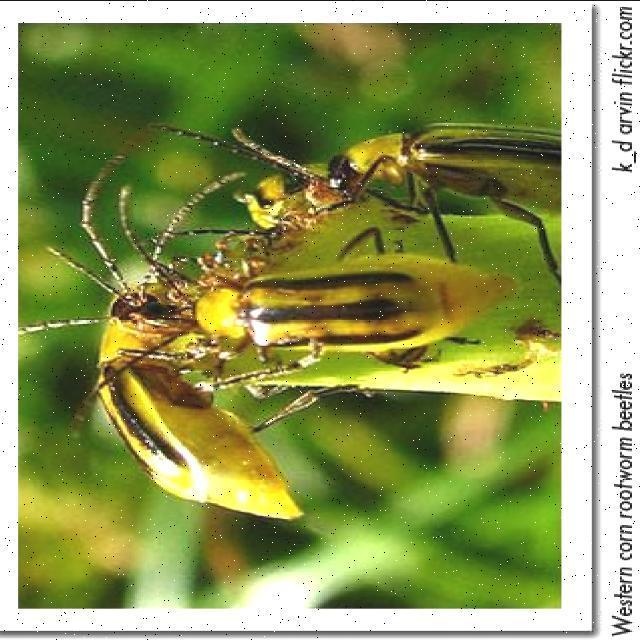trips: (150, 173, 530, 390), (20, 243, 302, 517), (328, 124, 592, 282), (158, 126, 302, 238)
